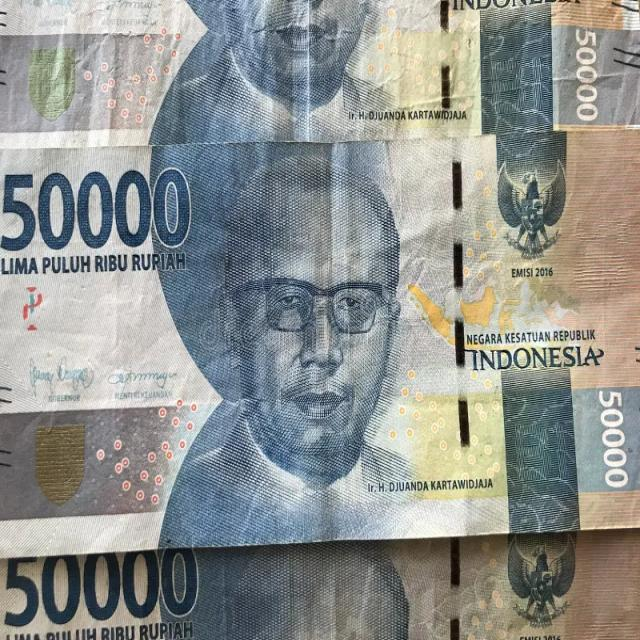lima puluh ribu rupiah: (0, 129, 640, 556), (0, 534, 640, 640)
